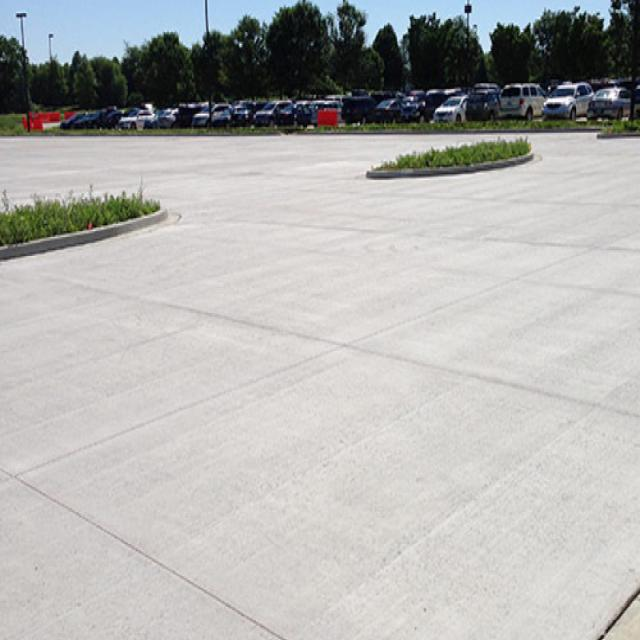cement: (0, 132, 639, 639)
grass: (0, 188, 158, 249), (367, 139, 532, 177)
